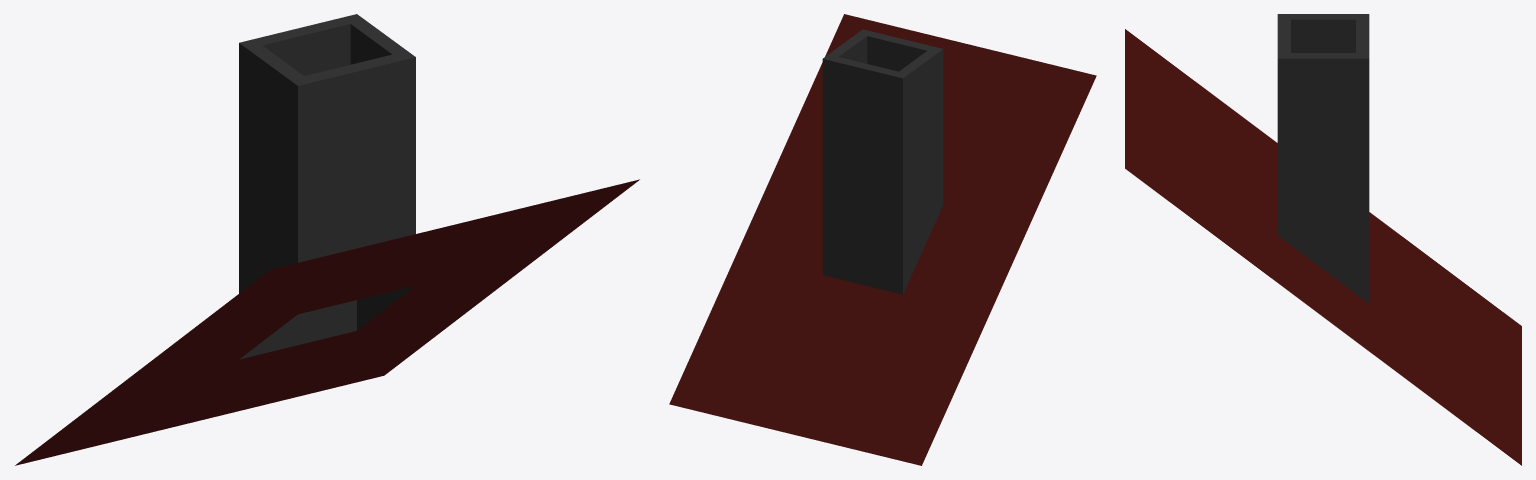
The model's file is RoofSlantPlaneChimney.FBX.
3 renders of one model, left to right at view 1: azimuth 30°, elevation 25°; view 2: azimuth 150°, elevation 25°; view 3: azimuth 270°, elevation 25°, orthographic. The views are drawn at different scales.
Parts seen in each view (by area): view 1: RoofSlantPlane001; view 2: RoofSlantPlane001; view 3: RoofSlantPlane001.
Boxes of the visible parts, bbox=[...] form: RoofSlantPlane001: bbox=[15, 14, 639, 465]; RoofSlantPlane001: bbox=[669, 14, 1096, 465]; RoofSlantPlane001: bbox=[1125, 14, 1521, 465].
Bounding box in the file's own units: 78.74 × 94.49 × 94.49.
